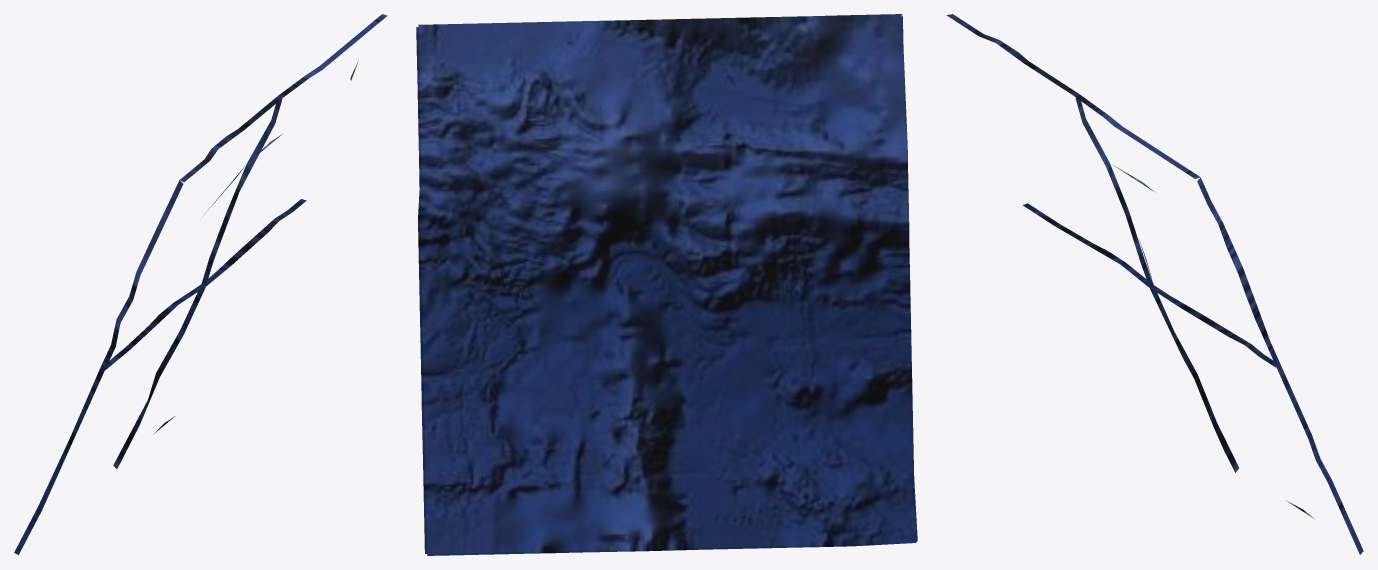
3 views of the same model, side by side, from view 1: azimuth 30°, elevation 25°; view 2: azimuth 150°, elevation 25°; view 3: azimuth 270°, elevation 25° (orthographic). The views are drawn at different scales.
Bounding box in the file's own units: 155354 × 146677 × 130736.
1 material, 1 textured.
